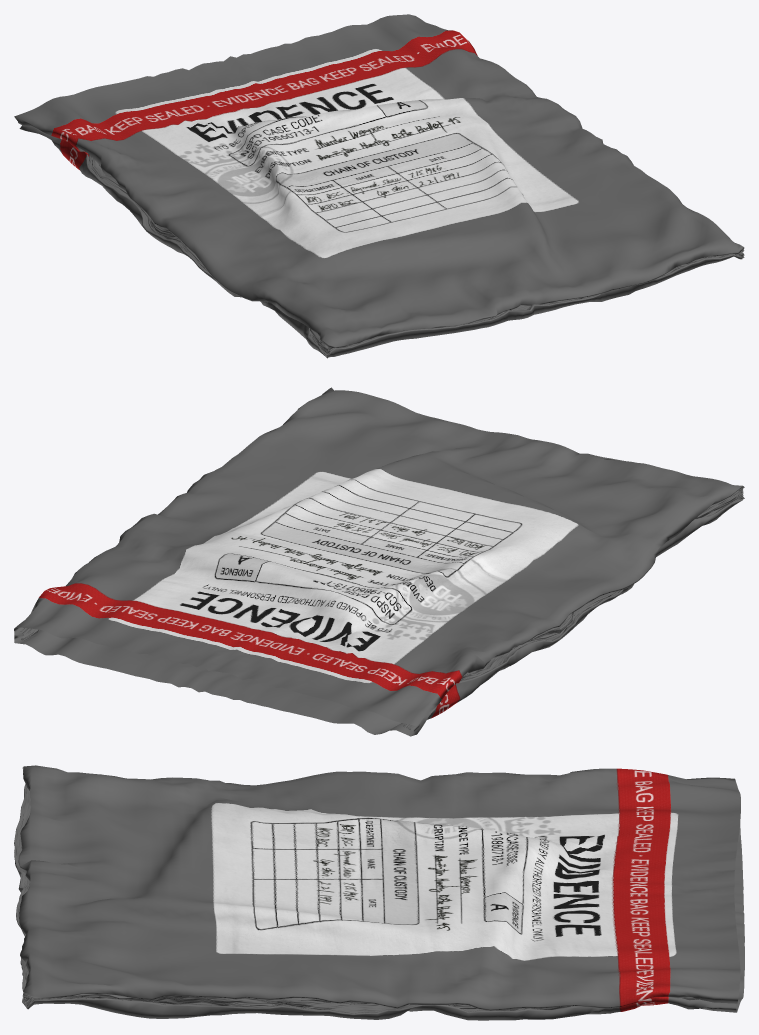
The model's file is evidenceBag2.fbx.
3 views of the same model, one above another, from view 1: azimuth 30°, elevation 25°; view 2: azimuth 150°, elevation 25°; view 3: azimuth 270°, elevation 25° (orthographic). The views are drawn at different scales.
Visible parts, largest first — view 1: Plane; view 2: Plane; view 3: Plane.
Boxes of the visible parts, x1,y1,x2,y2 form: Plane: [14, 14, 744, 358]; Plane: [14, 387, 744, 736]; Plane: [14, 765, 744, 1020].
Size of the model in its own units: 1128 by 120 by 1506.
Materials: 3 (2 with a texture image).
